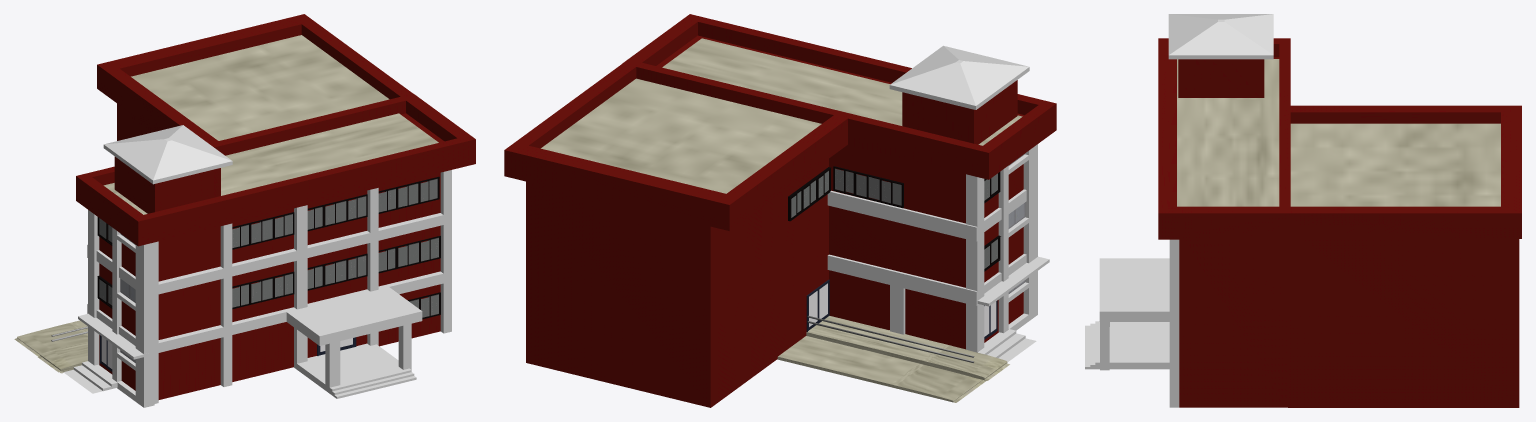
The model's file is rural-health-unit.lod.glb.
3 renders of one model, left to right at view 1: azimuth 30°, elevation 25°; view 2: azimuth 150°, elevation 25°; view 3: azimuth 270°, elevation 25°, orthographic. The views are drawn at different scales.
Visible parts, largest first — view 1: Cube, Cube.001, Cube.030, Object_5.002; view 2: Cube, Cube.030, Cube.001, Object_5.002, Cylinder; view 3: Cube, Cube.030, Cube.001.
Part boxes in pixels (x1,y1,x2,y2): Cube: (76, 14, 475, 399); Cube.001: (63, 125, 451, 407); Cube.030: (14, 35, 438, 373); Object_5.002: (99, 178, 438, 368); Cube: (504, 14, 1056, 407); Cube.030: (541, 38, 1022, 402); Cube.001: (827, 45, 1049, 362); Object_5.002: (791, 168, 997, 336); Cylinder: (807, 315, 974, 362); Cube: (1158, 38, 1521, 407); Cube.030: (1177, 59, 1500, 206); Cube.001: (1085, 14, 1273, 407).
Bounding box in the file's own units: 353 × 226 × 353.
5 materials, 5 textured.
